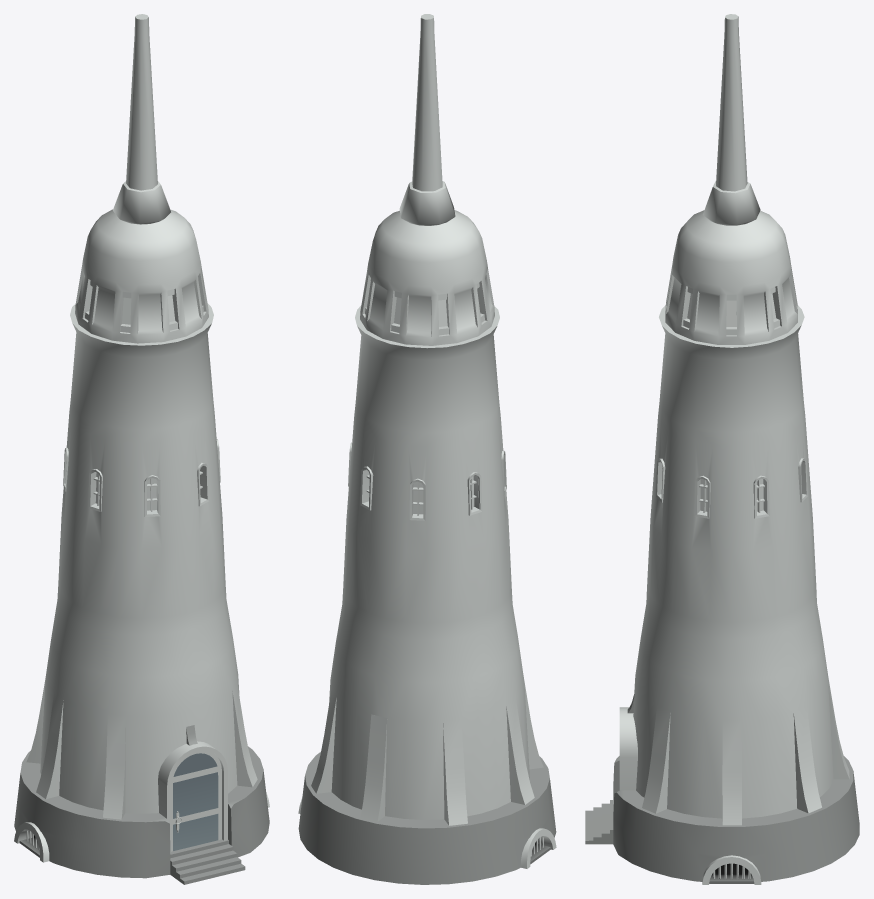
The picture shows the model from 3 angles, left to right: view 1: azimuth 30°, elevation 25°; view 2: azimuth 150°, elevation 25°; view 3: azimuth 270°, elevation 25°; orthographic projection.
Parts seen in each view (by area): view 1: G:\FFXIV-MapTools\exports\s1f3\bg\ffxiv\sea_s1\fld\s1f3\bgpa (×5); view 2: G:\FFXIV-MapTools\exports\s1f3\bg\ffxiv\sea_s1\fld\s1f3\bgpa (×4); view 3: G:\FFXIV-MapTools\exports\s1f3\bg\ffxiv\sea_s1\fld\s1f3\bgpa (×4).
Boxes of the visible parts, bbox=[...] form: G:\FFXIV-MapTools\exports\s1f3\bg\ffxiv\sea_s1\fld\s1f3\bgpa (×5): bbox=[14, 14, 269, 884]; G:\FFXIV-MapTools\exports\s1f3\bg\ffxiv\sea_s1\fld\s1f3\bgpa (×4): bbox=[298, 14, 556, 884]; G:\FFXIV-MapTools\exports\s1f3\bg\ffxiv\sea_s1\fld\s1f3\bgpa (×4): bbox=[585, 14, 859, 884].
Size of the model in its own units: 8.89 by 30.23 by 9.26.
